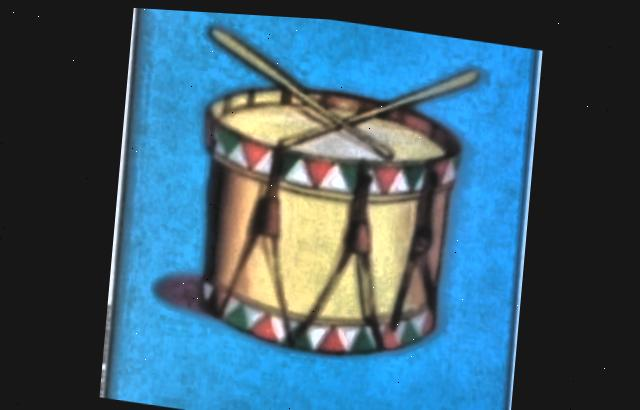El Tambor: (101, 5, 540, 410)
